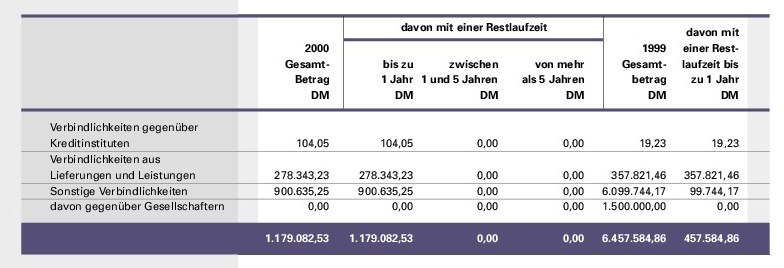table: (0, 0, 784, 268)
